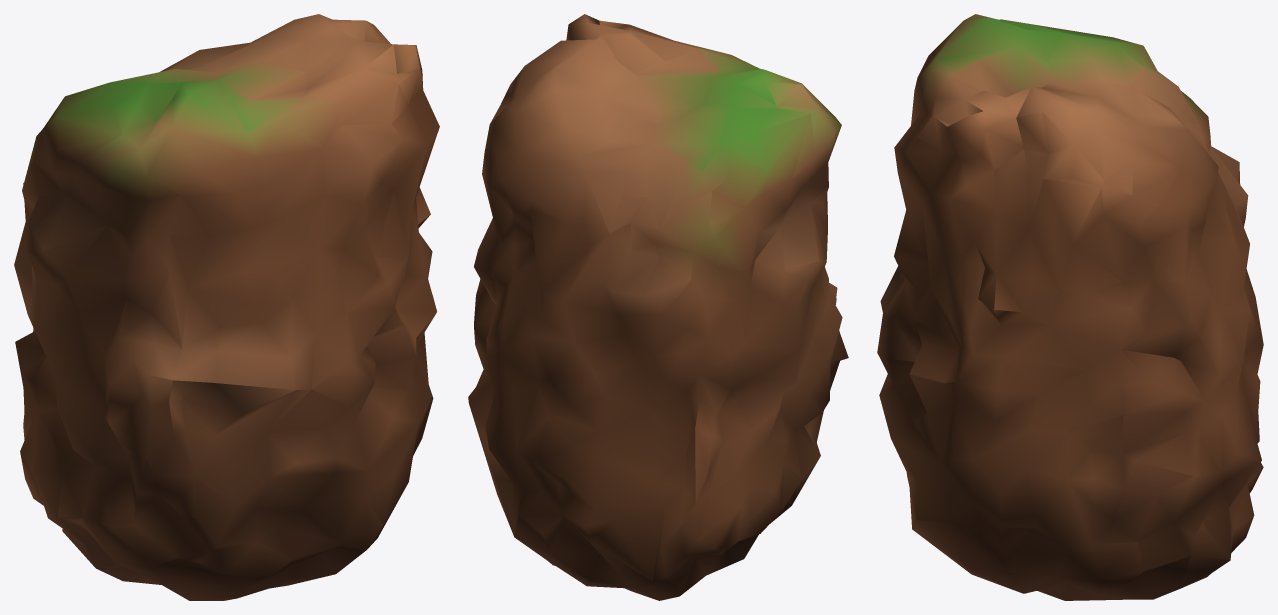
The model's file is canopy_bark_chip_c_lod1.glb.
3 views of the same model, side by side, from view 1: azimuth 30°, elevation 25°; view 2: azimuth 150°, elevation 25°; view 3: azimuth 270°, elevation 25° (orthographic). The views are drawn at different scales.
Parts seen in each view (by area): view 1: canopy_bark_chip_c.001; view 2: canopy_bark_chip_c.001; view 3: canopy_bark_chip_c.001.
Boxes of the visible parts, bbox=[...] form: canopy_bark_chip_c.001: bbox=[14, 14, 439, 600]; canopy_bark_chip_c.001: bbox=[468, 14, 848, 600]; canopy_bark_chip_c.001: bbox=[877, 14, 1263, 600].
Bounding box in the file's own units: 3.05 × 4.49 × 2.88.
